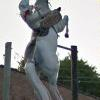Statue: (15, 0, 76, 86)
